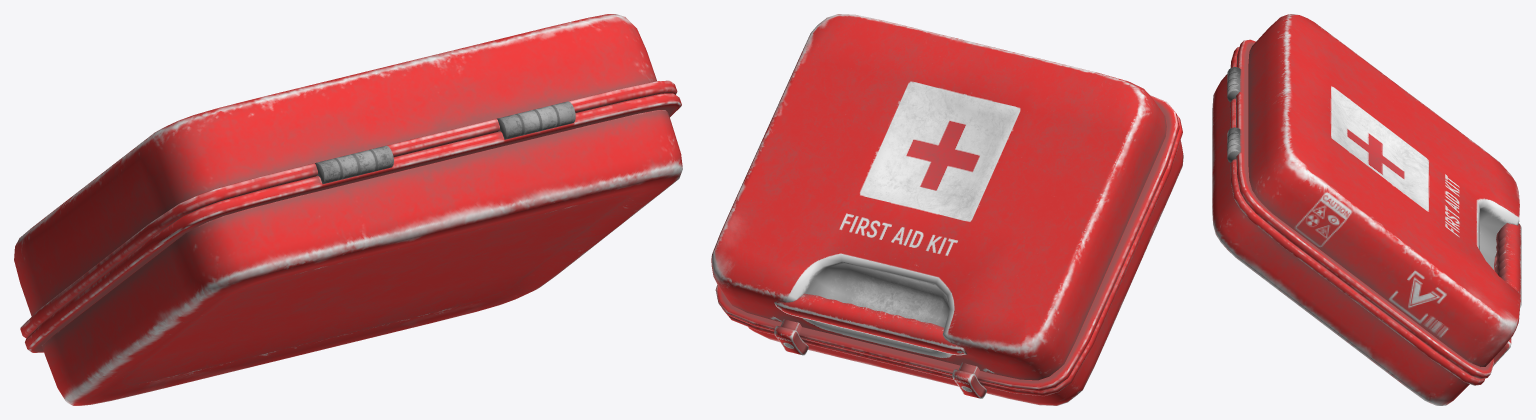
Rendered from first_aid_kit.gltf.
3 renders of one model, left to right at view 1: azimuth 30°, elevation 25°; view 2: azimuth 150°, elevation 25°; view 3: azimuth 270°, elevation 25°, orthographic. The views are drawn at different scales.
Bounding box in the file's own units: 4.47 × 3.16 × 3.45.
Materials: 1 (1 with a texture image).
